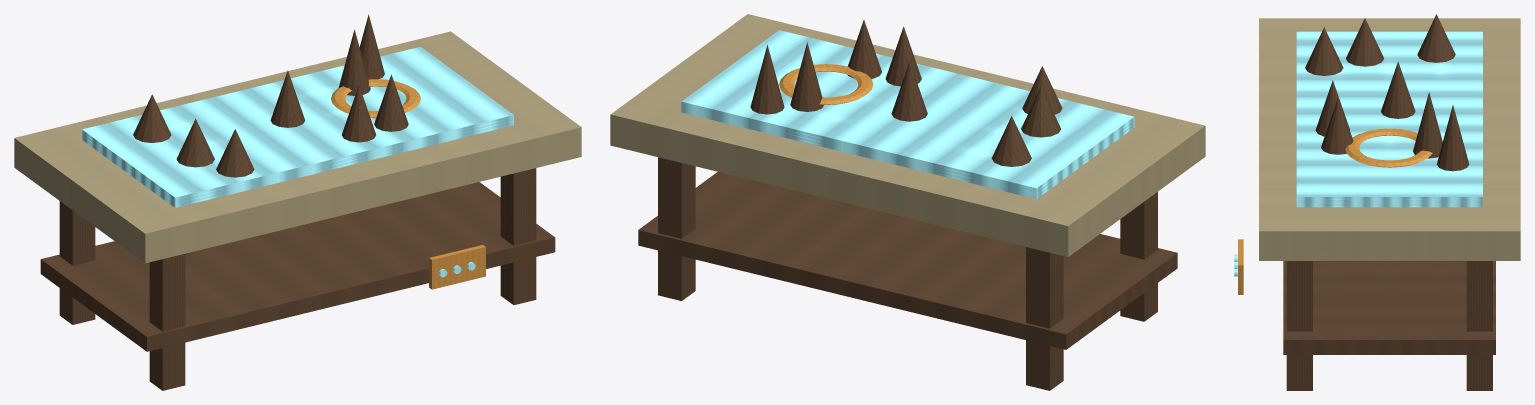
The model's file is atlas100-s013-a02.glb.
3 renders of one model, left to right at view 1: azimuth 30°, elevation 25°; view 2: azimuth 150°, elevation 25°; view 3: azimuth 270°, elevation 25°, orthographic. The views are drawn at different scales.
Visible parts, largest first — view 1: atlas100-s013-a02:part-004, atlas100-s013-a02:part-005, atlas100-s013-a02:part-006, atlas100-s013-a02:part-001, atlas100-s013-a02:part-003, atlas100-s013-a02:part-000, atlas100-s013-a02:part-016, atlas100-s013-a02:part-008, atlas100-s013-a02:part-014, atlas100-s013-a02:part-011, atlas100-s013-a02:part-012, atlas100-s013-a02:part-010 (+4 smaller); view 2: atlas100-s013-a02:part-004, atlas100-s013-a02:part-005, atlas100-s013-a02:part-006, atlas100-s013-a02:part-000, atlas100-s013-a02:part-002, atlas100-s013-a02:part-001, atlas100-s013-a02:part-015, atlas100-s013-a02:part-009, atlas100-s013-a02:part-012, atlas100-s013-a02:part-008, atlas100-s013-a02:part-010, atlas100-s013-a02:part-013 (+3 smaller); view 3: atlas100-s013-a02:part-004, atlas100-s013-a02:part-006, atlas100-s013-a02:part-005, atlas100-s013-a02:part-002, atlas100-s013-a02:part-003, atlas100-s013-a02:part-015, atlas100-s013-a02:part-009, atlas100-s013-a02:part-008, atlas100-s013-a02:part-012, atlas100-s013-a02:part-007, atlas100-s013-a02:part-013, atlas100-s013-a02:part-010 (+3 smaller).
Part boxes in pixels (x1,y1,x2,y2): atlas100-s013-a02:part-004: (14, 31, 581, 263); atlas100-s013-a02:part-005: (40, 182, 555, 351); atlas100-s013-a02:part-006: (82, 46, 513, 207); atlas100-s013-a02:part-001: (149, 254, 185, 390); atlas100-s013-a02:part-003: (500, 168, 536, 304); atlas100-s013-a02:part-000: (59, 201, 95, 324); atlas100-s013-a02:part-016: (429, 245, 485, 289); atlas100-s013-a02:part-008: (270, 70, 305, 127); atlas100-s013-a02:part-014: (374, 74, 408, 131); atlas100-s013-a02:part-011: (342, 85, 376, 142); atlas100-s013-a02:part-012: (338, 29, 370, 95); atlas100-s013-a02:part-010: (176, 119, 214, 167); atlas100-s013-a02:part-004: (610, 14, 1205, 256); atlas100-s013-a02:part-005: (638, 172, 1177, 349); atlas100-s013-a02:part-006: (681, 30, 1134, 198); atlas100-s013-a02:part-000: (1026, 247, 1063, 390); atlas100-s013-a02:part-002: (658, 157, 695, 300); atlas100-s013-a02:part-001: (1120, 192, 1157, 321); atlas100-s013-a02:part-015: (779, 64, 873, 104); atlas100-s013-a02:part-009: (750, 44, 784, 114); atlas100-s013-a02:part-012: (790, 42, 823, 111); atlas100-s013-a02:part-008: (891, 61, 927, 121); atlas100-s013-a02:part-010: (1021, 86, 1060, 137); atlas100-s013-a02:part-013: (991, 116, 1031, 166); atlas100-s013-a02:part-004: (1259, 18, 1520, 260); atlas100-s013-a02:part-006: (1296, 31, 1482, 207); atlas100-s013-a02:part-005: (1283, 261, 1495, 354); atlas100-s013-a02:part-002: (1466, 261, 1492, 390); atlas100-s013-a02:part-003: (1286, 261, 1312, 390); atlas100-s013-a02:part-015: (1345, 128, 1432, 167); atlas100-s013-a02:part-009: (1436, 105, 1469, 171); atlas100-s013-a02:part-008: (1381, 61, 1415, 118); atlas100-s013-a02:part-012: (1413, 92, 1442, 158); atlas100-s013-a02:part-007: (1305, 27, 1343, 75); atlas100-s013-a02:part-013: (1417, 14, 1455, 62); atlas100-s013-a02:part-010: (1346, 18, 1383, 66).
Bounding box in the file's own units: 3.08 × 1.65 × 1.75.
Materials: 4 (4 with a texture image).
